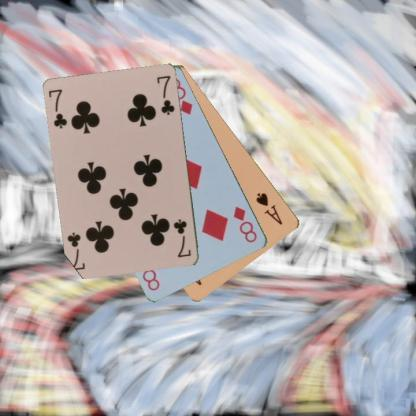7c: (46, 87, 69, 130), (171, 217, 192, 259)
8d: (231, 204, 259, 244)
As: (253, 190, 284, 226)
